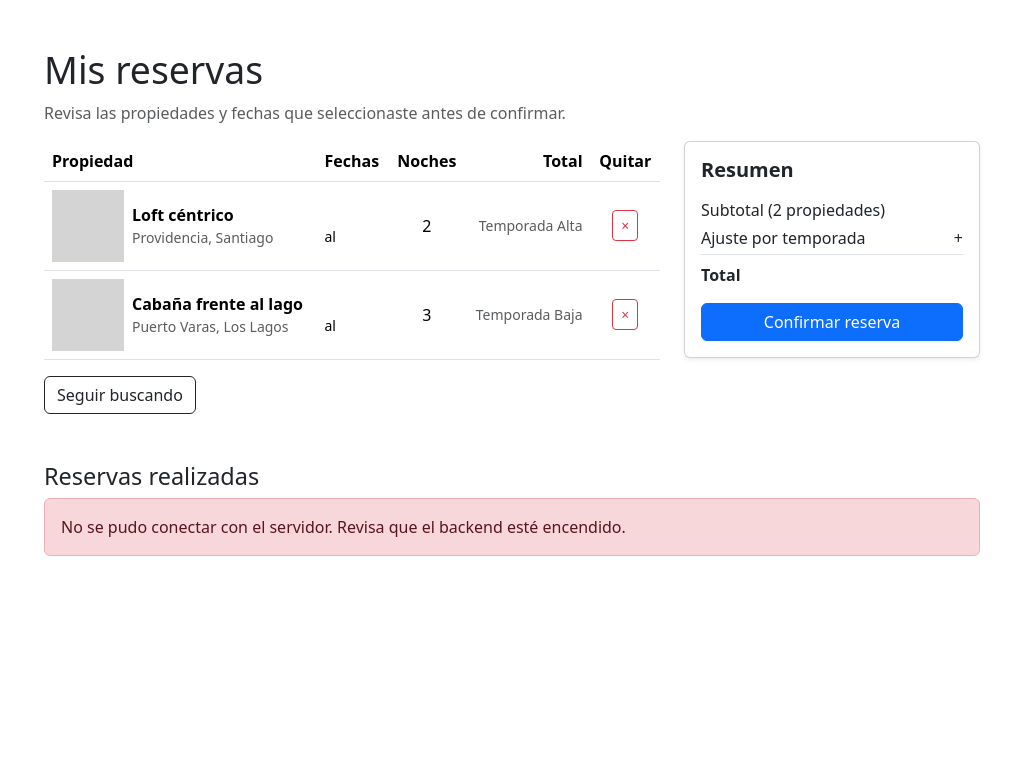
Test: Página Mis reservas › Al confirmar crea una reserva por estadía en MS-Reservas y avisa a App cuáles salieron
This screenshot has width=1024, height=768.
Click the button "Confirmar reserva" at x=832, y=322, box [701, 303, 963, 341]
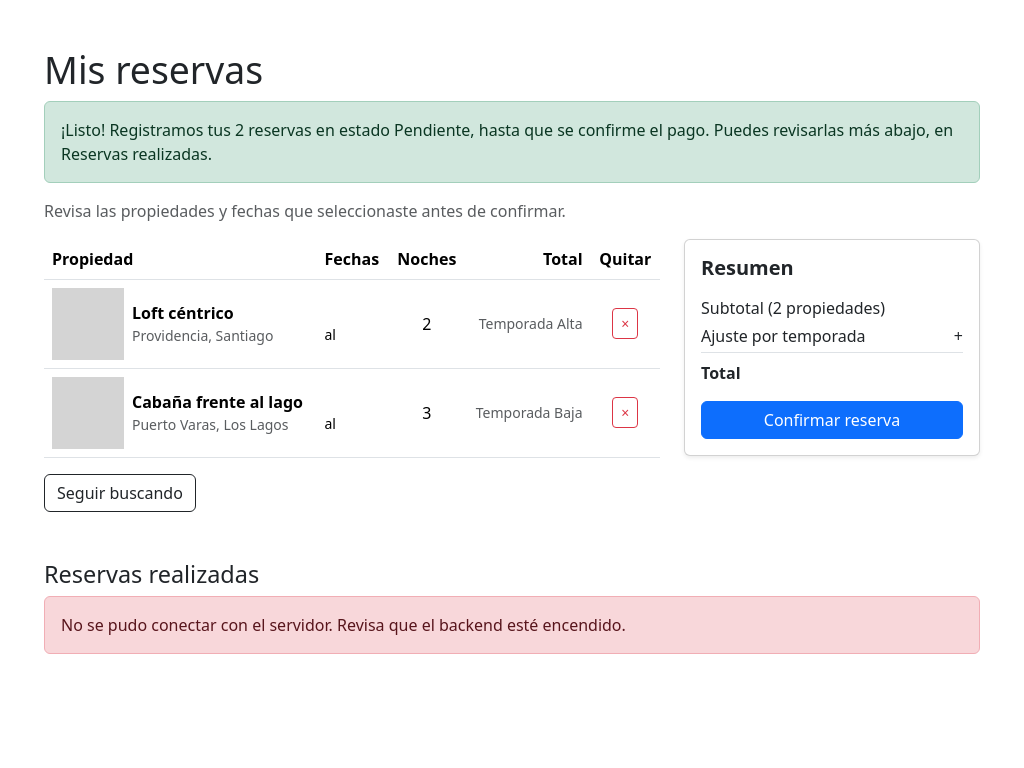
Now the text "Registramos tus 2 reservas" is shown, box [44, 101, 980, 183]
